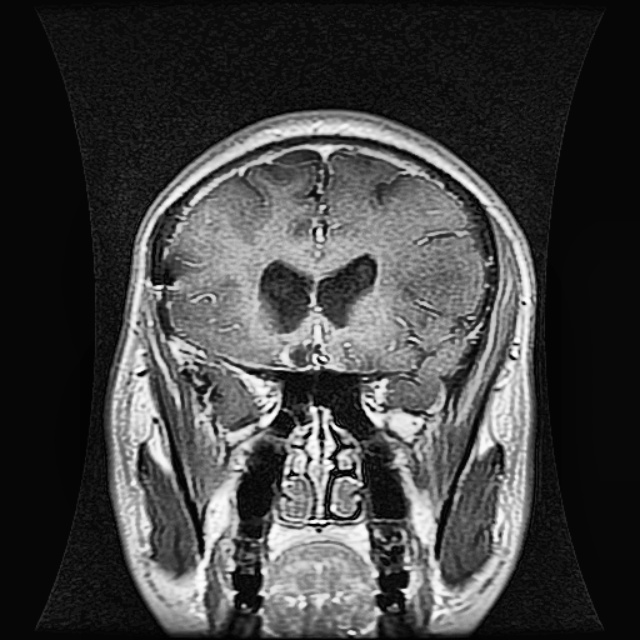Meningioma: (278, 335, 325, 373)
